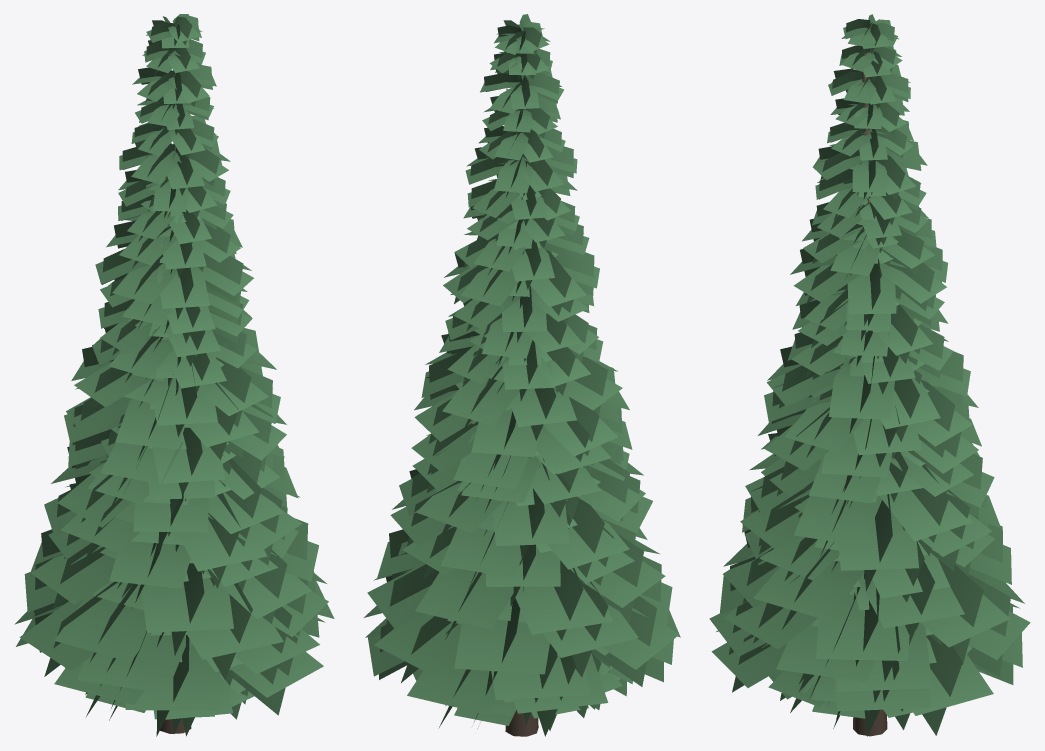
Rendered from pine.glb.
3 renders of one model, left to right at view 1: azimuth 30°, elevation 25°; view 2: azimuth 150°, elevation 25°; view 3: azimuth 270°, elevation 25°, orthographic.
Parts seen in each view (by area): view 1: C_lod0, A_lod0, B_lod0; view 2: C_lod0, A_lod0, B_lod0; view 3: C_lod0, A_lod0, B_lod0.
Boxes of the visible parts, x1=… form: C_lod0: x1=14, y1=14, x2=334, y2=736; A_lod0: x1=65, y1=150, x2=266, y2=736; B_lod0: x1=85, y1=337, x2=254, y2=733; C_lod0: x1=363, y1=14, x2=680, y2=736; A_lod0: x1=413, y1=157, x2=632, y2=721; B_lod0: x1=445, y1=457, x2=620, y2=730; C_lod0: x1=709, y1=14, x2=1030, y2=736; A_lod0: x1=761, y1=153, x2=985, y2=719; B_lod0: x1=769, y1=357, x2=912, y2=729.
Size of what is drawn, in the model's own units: 6.4 by 15.85 by 6.48.
